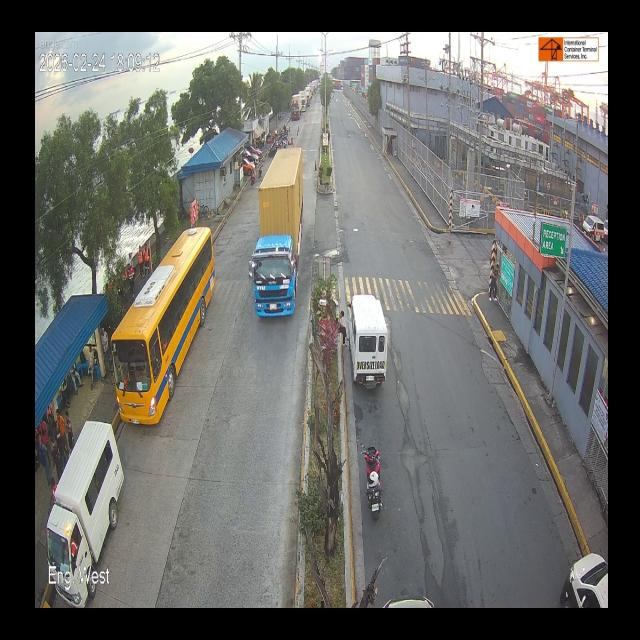bus: (106, 224, 222, 436)
car: (54, 425, 122, 567), (344, 290, 390, 393)
motorcycle: (362, 434, 398, 524)
truck: (256, 147, 314, 325), (290, 91, 302, 121)
